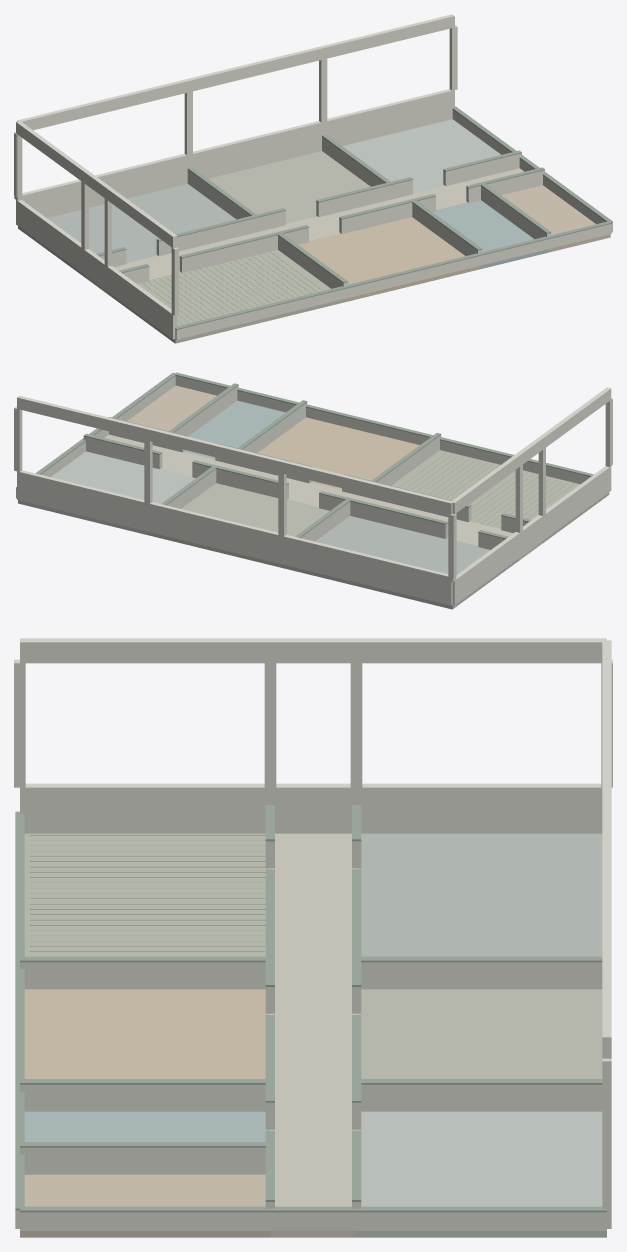
Rendered from home_shell.glb.
The picture shows the model from 3 angles, top to bottom: view 1: azimuth 30°, elevation 25°; view 2: azimuth 150°, elevation 25°; view 3: azimuth 270°, elevation 25°; orthographic projection. The views are drawn at different scales.
Visible parts, largest first — view 1: north-sill, corridor-partition (×6), living-floor, dining-floor, master-floor, north-header, bedroom-floor, kitchen-floor, west-sill, south-cutaway, corridor-floor, bath-floor (+11 smaller); view 2: north-sill, north-header, living-floor, master-floor, dining-floor, corridor-partition (×5), west-sill, bedroom-floor, kitchen-floor, corridor-floor, south-cutaway, west-header (+13 smaller); view 3: living-floor, master-floor, corridor-floor, west-sill, kitchen-floor, dining-floor, bedroom-floor, west-header, day-zone-partition (×2), bedroom-partition (×2), east-cutaway, entry-floor (+11 smaller).
Boxes of the visible parts, x1=… form: north-sill: x1=22, y1=89, x2=454, y2=217; corridor-partition (×6): x1=156, y1=153, x2=544, y2=272; living-floor: x1=108, y1=250, x2=345, y2=343; dining-floor: x1=298, y1=217, x2=480, y2=301; master-floor: x1=18, y1=184, x2=236, y2=277; north-header: x1=17, y1=14, x2=454, y2=130; bedroom-floor: x1=208, y1=151, x2=370, y2=223; kitchen-floor: x1=342, y1=119, x2=500, y2=192; west-sill: x1=16, y1=200, x2=177, y2=339; south-cutaway: x1=175, y1=224, x2=611, y2=339; corridor-floor: x1=85, y1=168, x2=524, y2=294; bath-floor: x1=432, y1=200, x2=548, y2=269; north-sill: x1=17, y1=470, x2=452, y2=605; north-header: x1=17, y1=395, x2=452, y2=514; living-floor: x1=392, y1=450, x2=609, y2=543; master-floor: x1=282, y1=516, x2=519, y2=609; dining-floor: x1=258, y1=417, x2=419, y2=490; corridor-partition (×5): x1=83, y1=436, x2=471, y2=538; west-sill: x1=452, y1=466, x2=611, y2=605; bedroom-floor: x1=148, y1=483, x2=329, y2=567; kitchen-floor: x1=18, y1=451, x2=195, y2=534; corridor-floor: x1=104, y1=434, x2=542, y2=560; south-cutaway: x1=175, y1=376, x2=589, y2=484; west-header: x1=451, y1=387, x2=611, y2=514; living-floor: x1=24, y1=833, x2=270, y2=956; master-floor: x1=356, y1=833, x2=602, y2=956; corridor-floor: x1=270, y1=833, x2=356, y2=1237; west-sill: x1=20, y1=783, x2=602, y2=833; kitchen-floor: x1=356, y1=1111, x2=606, y2=1237; dining-floor: x1=24, y1=989, x2=270, y2=1078; bedroom-floor: x1=356, y1=989, x2=602, y2=1078; west-header: x1=20, y1=638, x2=606, y2=663; day-zone-partition (×2): x1=20, y1=962, x2=265, y2=1111; bedroom-partition (×2): x1=361, y1=962, x2=602, y2=1111; east-cutaway: x1=20, y1=1212, x2=606, y2=1230; entry-floor: x1=20, y1=1174, x2=270, y2=1237.
Bounding box in the file's own units: 12.16 × 2.83 × 7.65.
